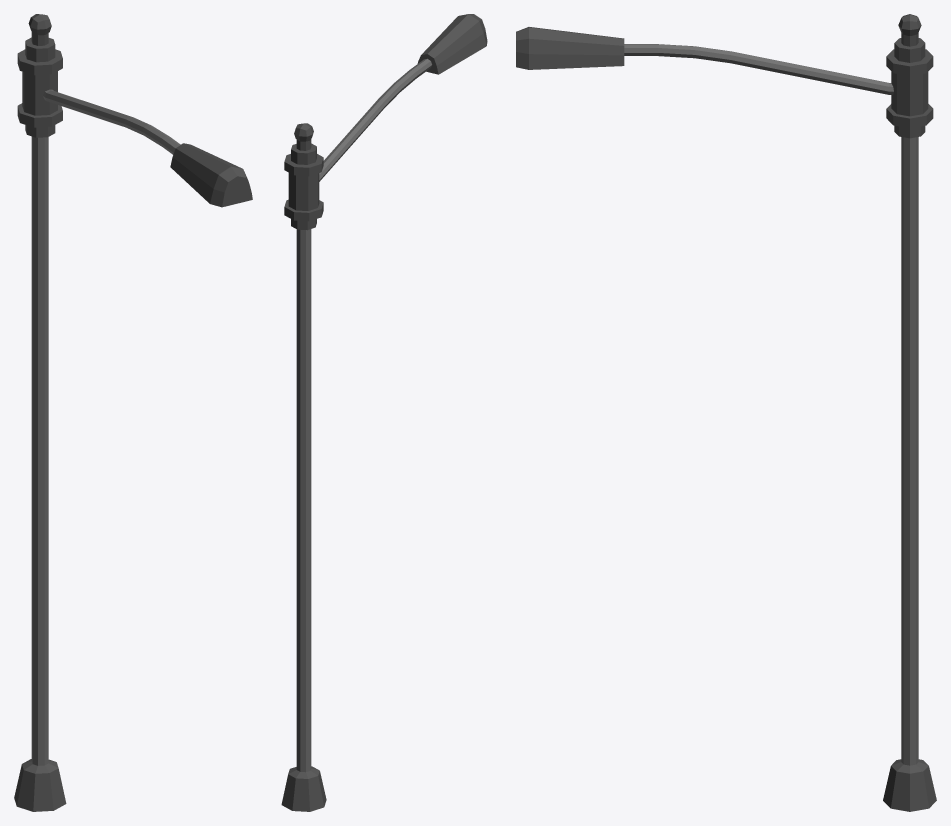
File: SM_FloorProps_Light_01.fbx
3 views of the same model, side by side, from view 1: azimuth 30°, elevation 25°; view 2: azimuth 150°, elevation 25°; view 3: azimuth 270°, elevation 25° (orthographic). The views are drawn at different scales.
Visible parts, largest first — view 1: SM_FloorProps_Light_01; view 2: SM_FloorProps_Light_01; view 3: SM_FloorProps_Light_01.
Boxes of the visible parts, x1,y1,x2,y2 form: SM_FloorProps_Light_01: (14, 14, 252, 811); SM_FloorProps_Light_01: (281, 14, 487, 811); SM_FloorProps_Light_01: (516, 14, 936, 811).
Size of the model in its own units: 0.3189 by 5.11 by 2.48.
